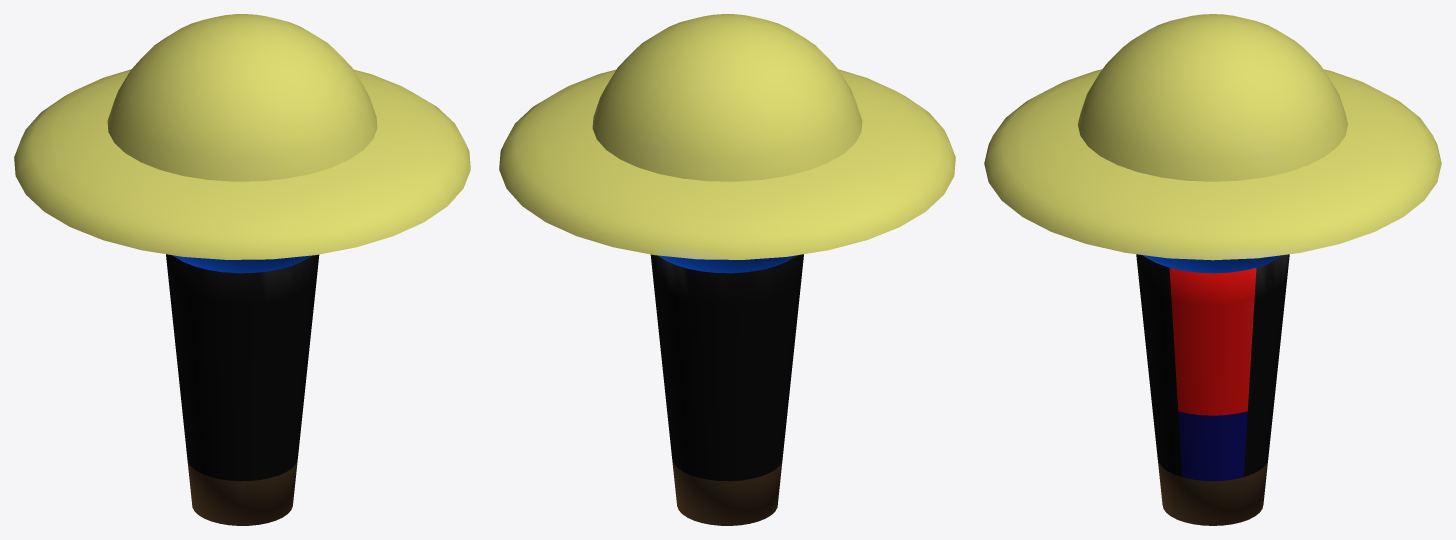
The model's file is CiviSunhat.fbx.
3 renders of one model, left to right at view 1: azimuth 30°, elevation 25°; view 2: azimuth 150°, elevation 25°; view 3: azimuth 270°, elevation 25°, orthographic.
Parts seen in each view (by area): view 1: Cylinder; view 2: Cylinder; view 3: Cylinder.
Boxes of the visible parts, bbox=[...] form: Cylinder: bbox=[14, 14, 470, 525]; Cylinder: bbox=[499, 14, 955, 525]; Cylinder: bbox=[984, 14, 1441, 525].
Bounding box in the file's own units: 0.91 × 1.05 × 0.91.
